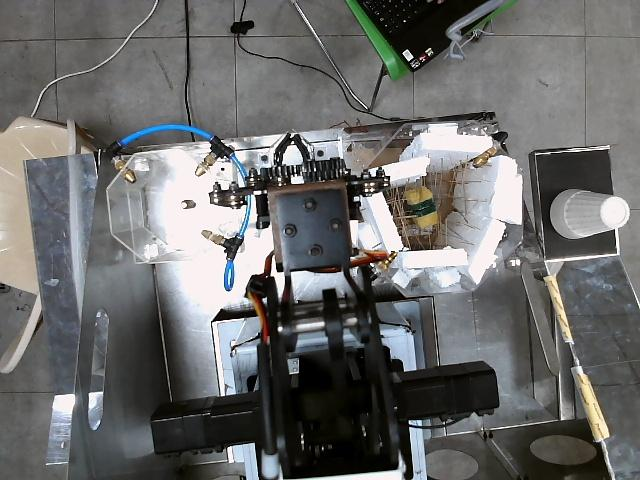cup: (551, 189, 629, 238)
